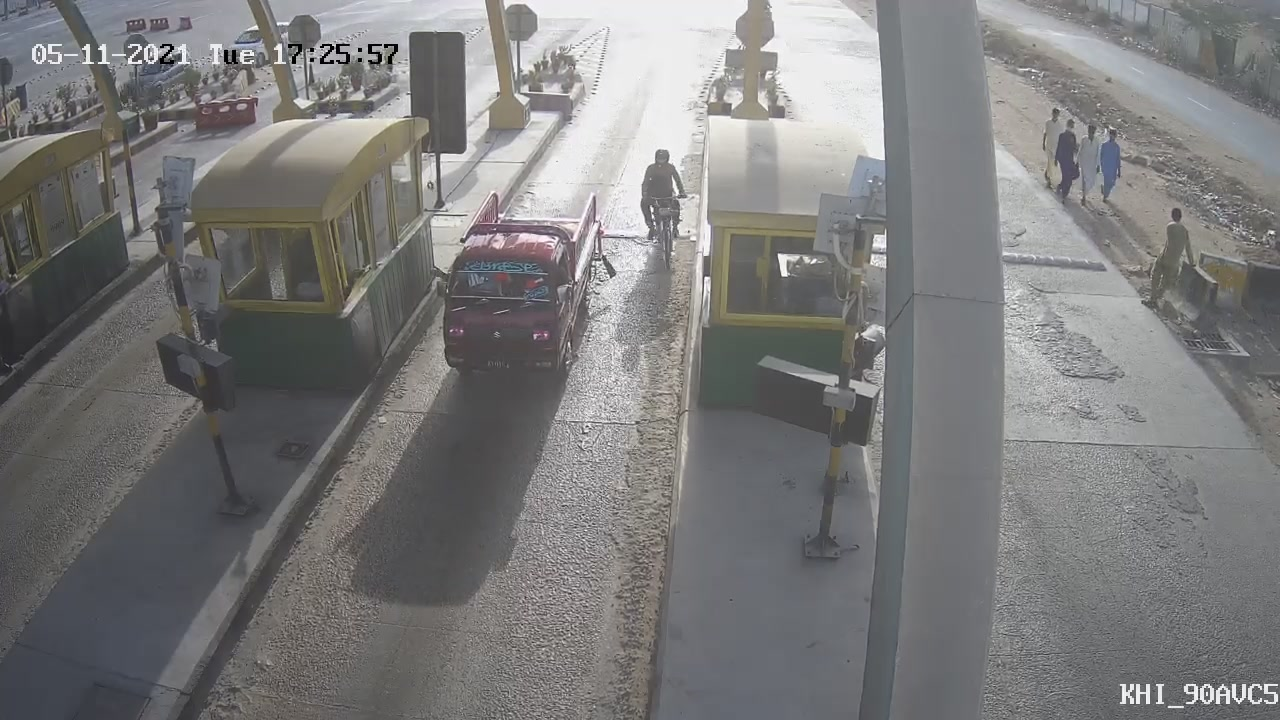F1: (412, 173, 629, 404)
